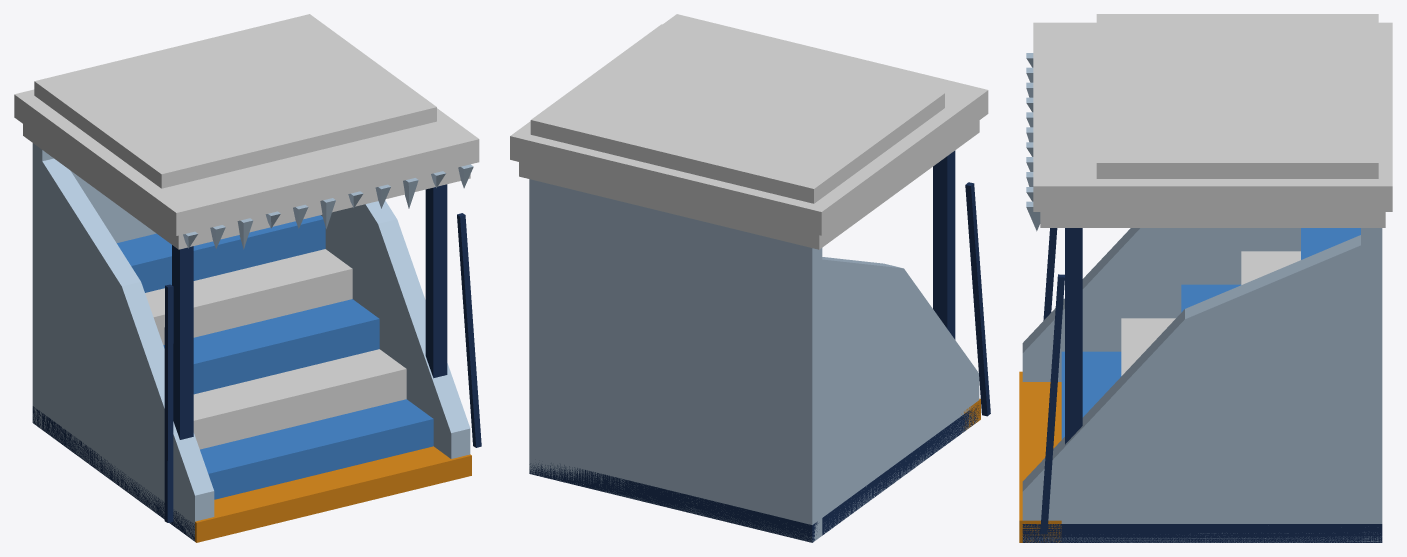
The model's file is stand.glb.
3 renders of one model, left to right at view 1: azimuth 30°, elevation 25°; view 2: azimuth 150°, elevation 25°; view 3: azimuth 270°, elevation 25°, orthographic. The views are drawn at different scales.
Parts seen in each view (by area): view 1: snowPeak-stand; view 2: snowPeak-stand; view 3: snowPeak-stand.
Part boxes in pixels (x1,y1,x2,y2): snowPeak-stand: (14,14,481,542); snowPeak-stand: (510,14,990,542); snowPeak-stand: (1019,14,1392,542).
Bounding box in the file's own units: 1.14 × 1.19 × 1.06.
